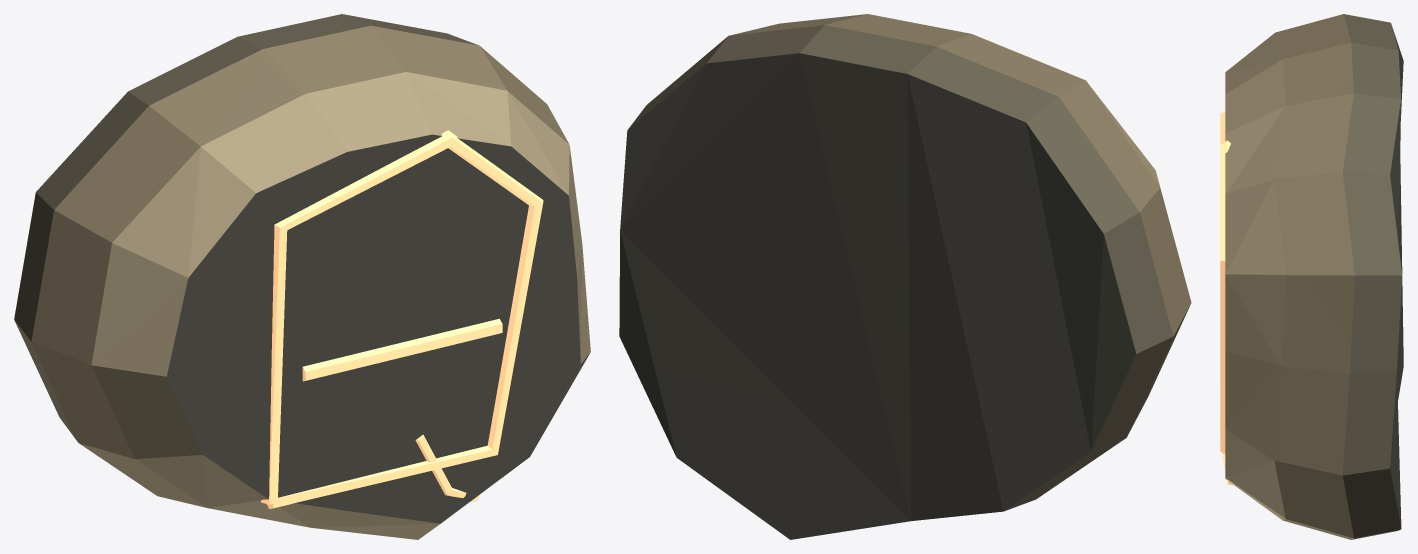
The model's file is FERNSTONE_ORE.hi.glb.
3 renders of one model, left to right at view 1: azimuth 30°, elevation 25°; view 2: azimuth 150°, elevation 25°; view 3: azimuth 270°, elevation 25°, orthographic. The views are drawn at different scales.
Visible parts, largest first — view 1: Body_Mesh; view 2: Body_Mesh; view 3: Body_Mesh.
Boxes of the visible parts, x1,y1,x2,y2 form: Body_Mesh: (14,14,590,539); Body_Mesh: (619,14,1191,539); Body_Mesh: (1220,14,1403,539).
Size of the model in its own units: 0.3083 by 0.2807 by 0.1048.
Materials: 1 (1 with a texture image).
